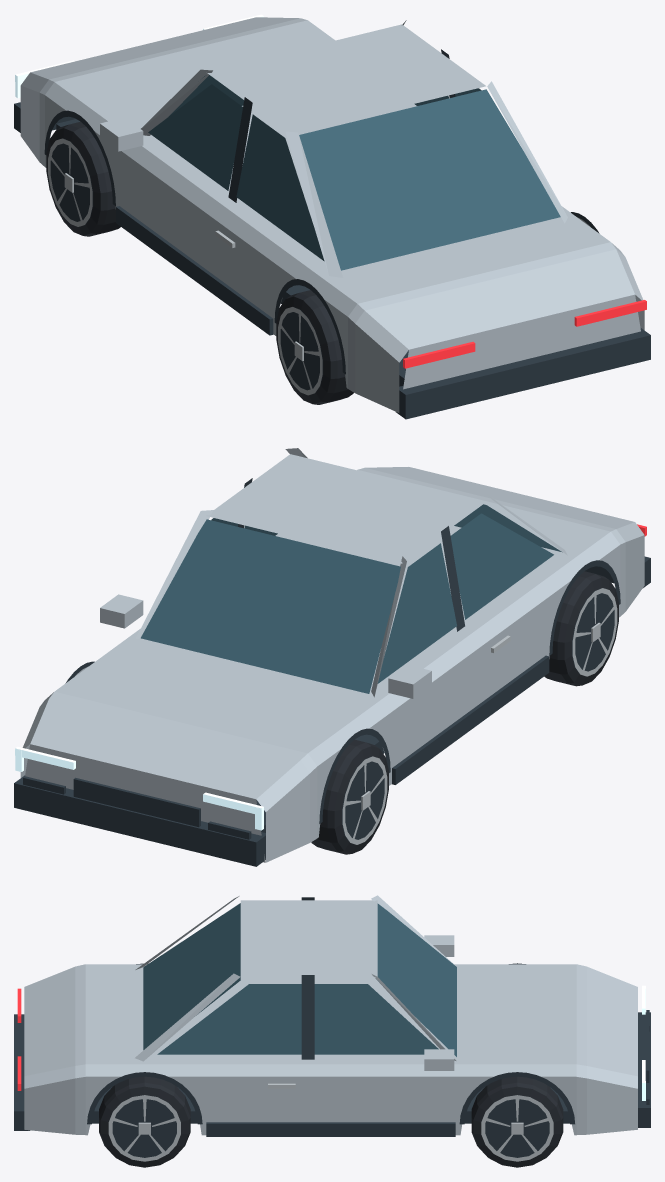
File: meridian_s.glb
3 renders of one model, top to bottom at view 1: azimuth 30°, elevation 25°; view 2: azimuth 150°, elevation 25°; view 3: azimuth 270°, elevation 25°, orthographic. The views are drawn at different scales.
Parts seen in each view (by area): view 1: Body, Wheel_2, Wheel_0; view 2: Body, Wheel_0, Wheel_2; view 3: Body, Wheel_1, Wheel_3.
Part boxes in pixels (x1=…): Body: x1=14, y1=14, x2=650, y2=419; Wheel_2: x1=276, y1=290, x2=353, y2=404; Wheel_0: x1=46, y1=121, x2=120, y2=236; Body: x1=14, y1=448, x2=650, y2=866; Wheel_0: x1=311, y1=739, x2=388, y2=854; Wheel_2: x1=544, y1=571, x2=618, y2=686; Body: x1=14, y1=895, x2=650, y2=1136; Wheel_1: x1=471, y1=1076, x2=563, y2=1167; Wheel_3: x1=99, y1=1076, x2=190, y2=1167.
Size of the model in its own units: 2.14 by 1.42 by 4.65.
